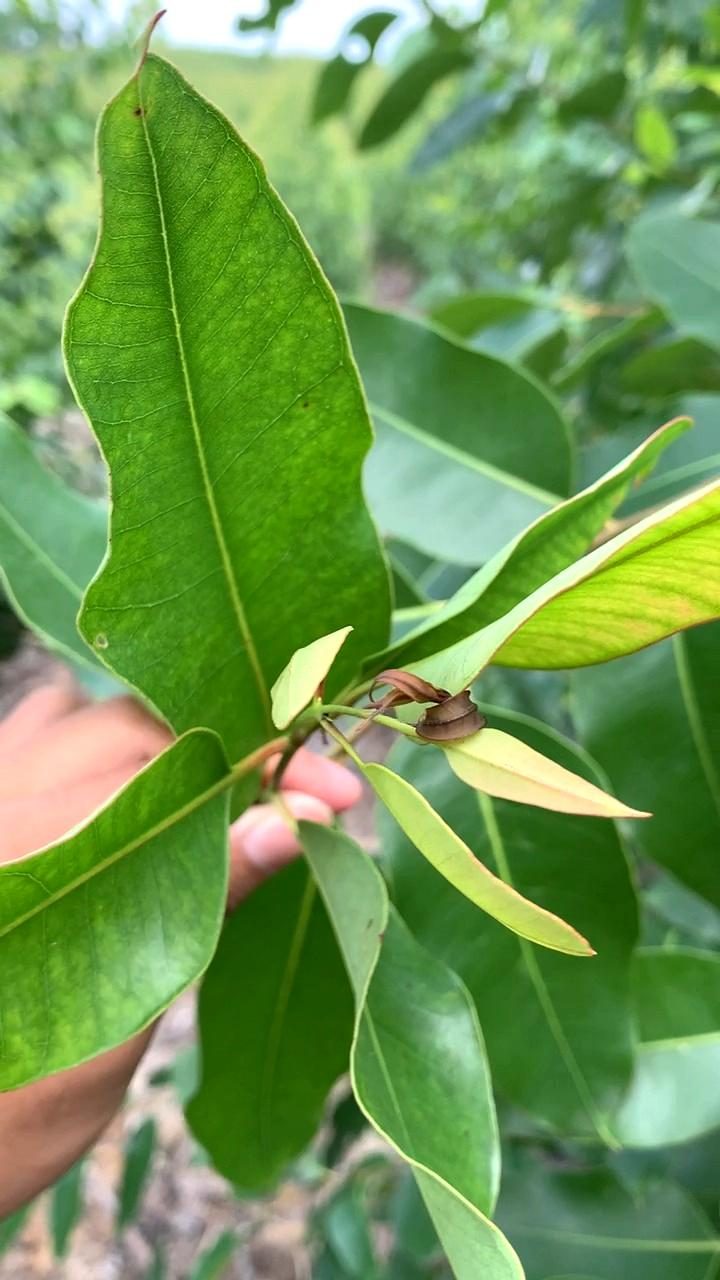Helopeltis-Withered Sprout: (368, 656, 491, 757)
